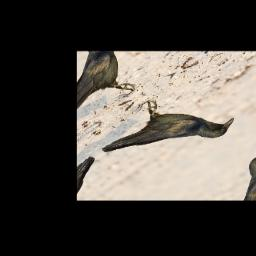Crow: (88, 78, 242, 186)
